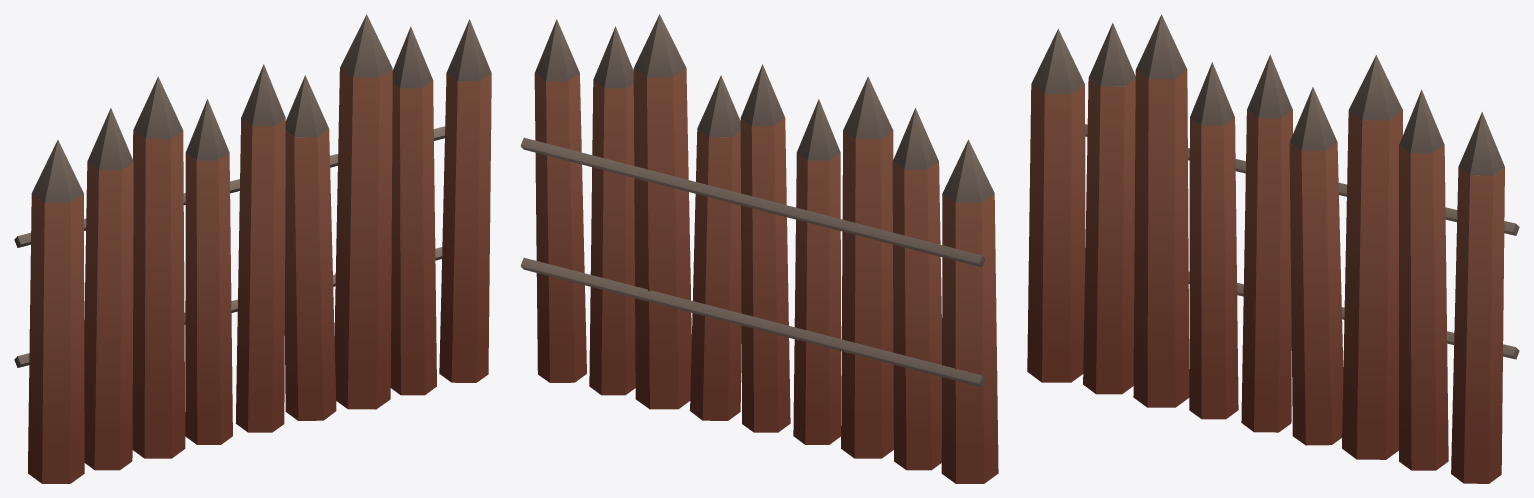
The model's file is palisade.glb.
3 views of the same model, side by side, from view 1: azimuth 30°, elevation 25°; view 2: azimuth 150°, elevation 25°; view 3: azimuth 330°, elevation 25° (orthographic). The views are drawn at different scales.
Visible parts, largest first — view 1: palisade; view 2: palisade; view 3: palisade.
Part boxes in pixels (<box>): palisade: <box>14,14,491,483</box>; palisade: <box>520,14,998,483</box>; palisade: <box>1027,14,1519,483</box>.
Size of the model in its own units: 4 by 3.2 by 0.4669.
1 material, 1 textured.
